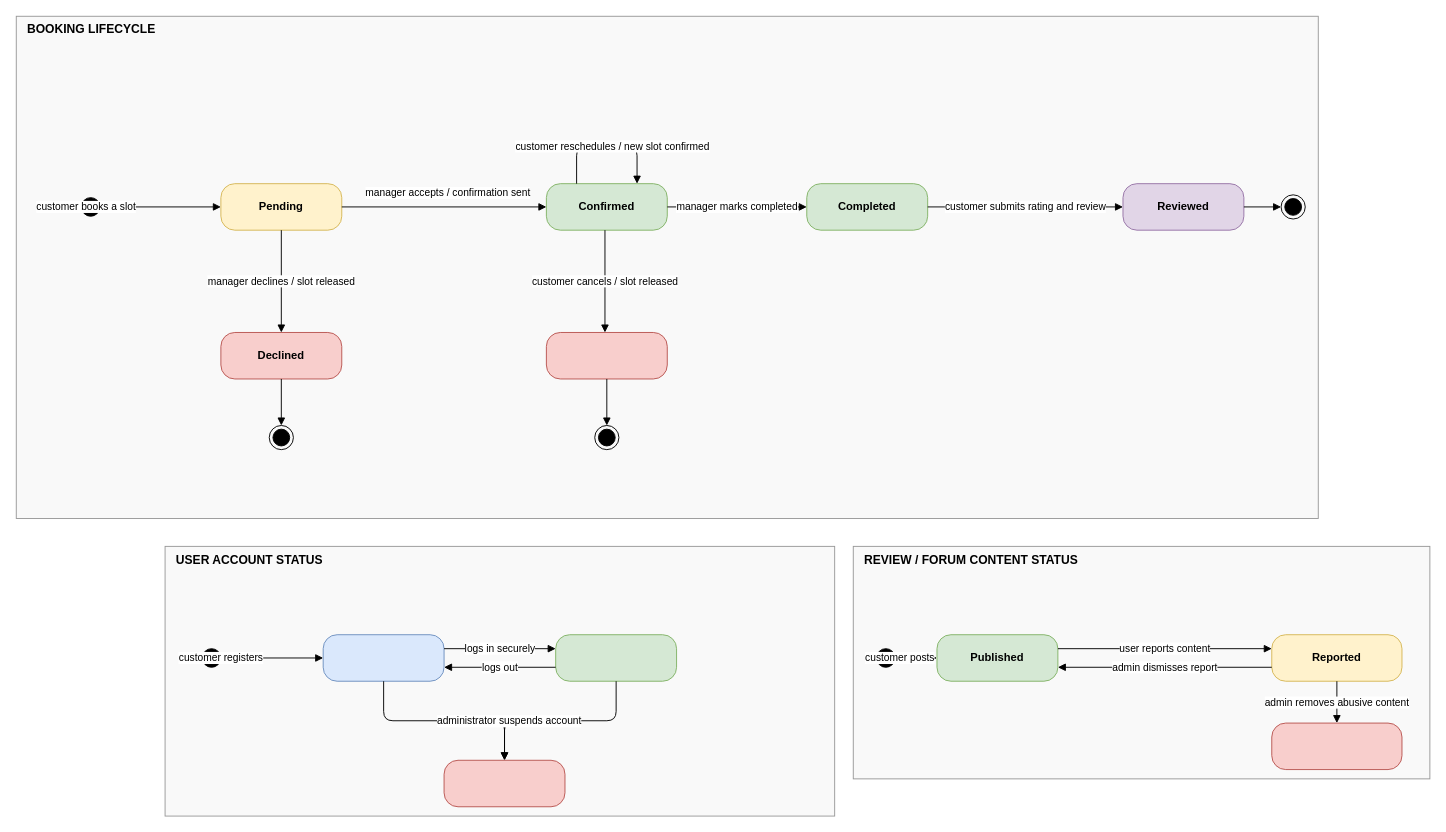
The diagram is 1446 pixels wide and 832 high, and some of its shapes have lost their labels. The shapes that lost their labels are listed below. From the top down, each one's centre as x and y in pixels, then its label:
At (x=606, y=355): "Cancelled".
At (x=383, y=657): "Logged Out".
At (x=616, y=657): "Logged In".
At (x=1336, y=746): "Removed".
At (x=504, y=783): "Suspended".
